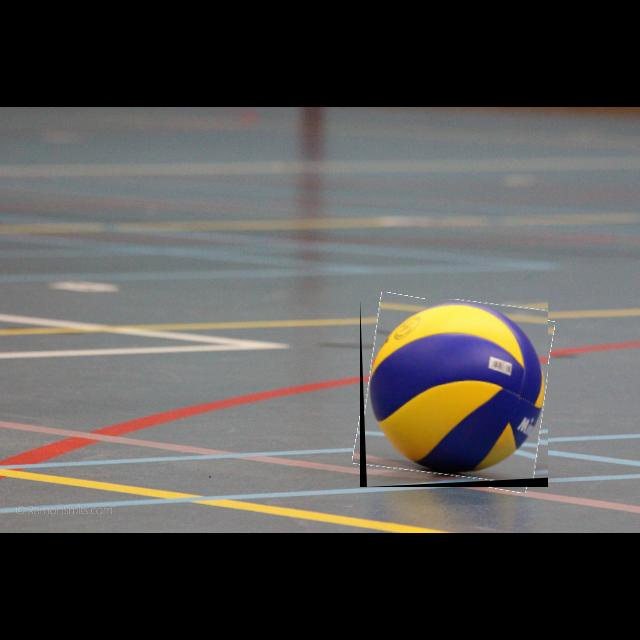Football: (360, 299, 548, 487)
